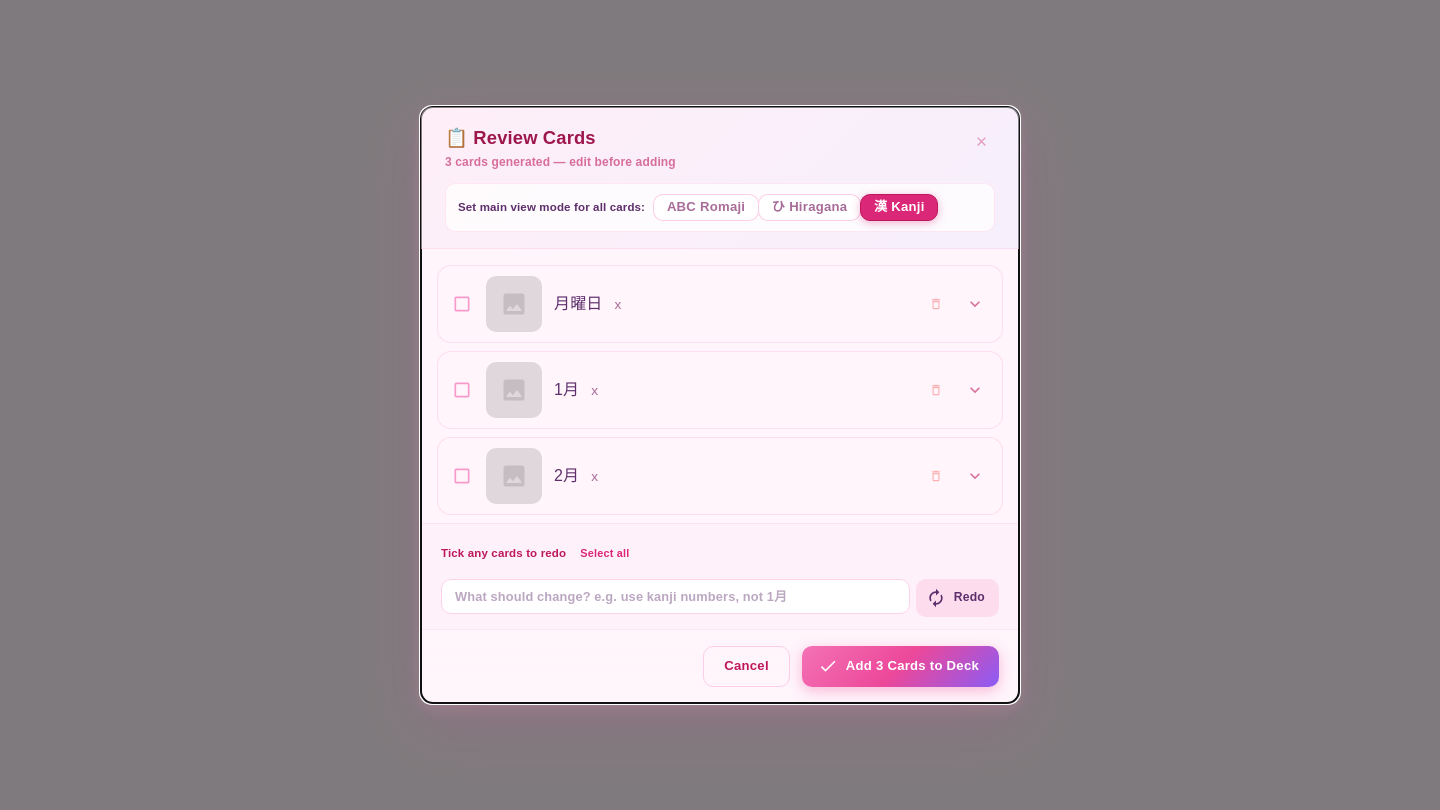
Scenario: ReviewCardsDialog regeneration › should surface a failure without dropping any cards
This screenshot has width=1440, height=810.
Click the checkbox named "Select 1月 to redo". click: (462, 390)
box: [452,380,472,400]
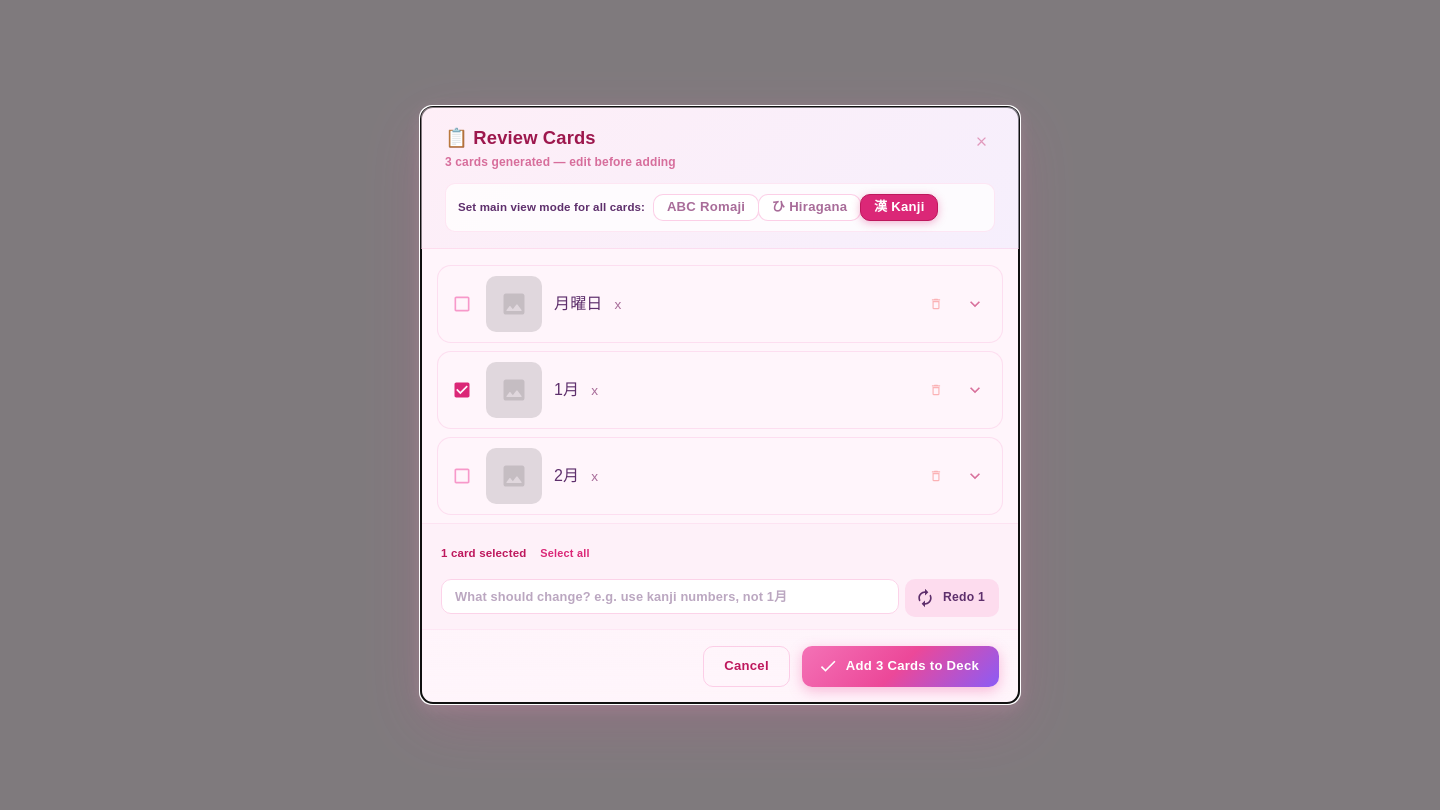
Type "kanji" into the field with placeholder "What should change? e.g. use kanji numbers, not 1月". click: (670, 596)
box: [441,579,899,614]
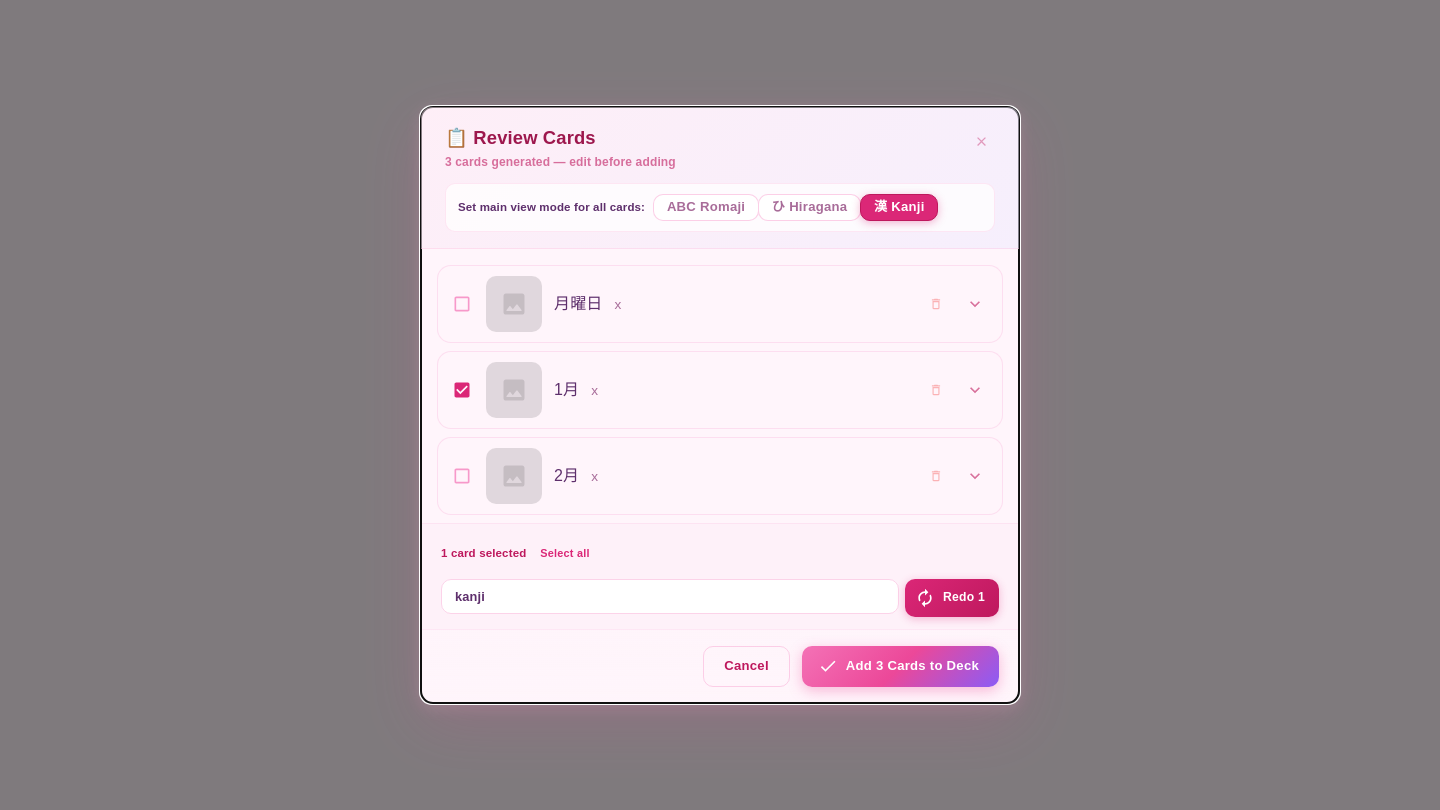
Click the button "Redo 1". click: (952, 598)
box: [905,579,999,617]
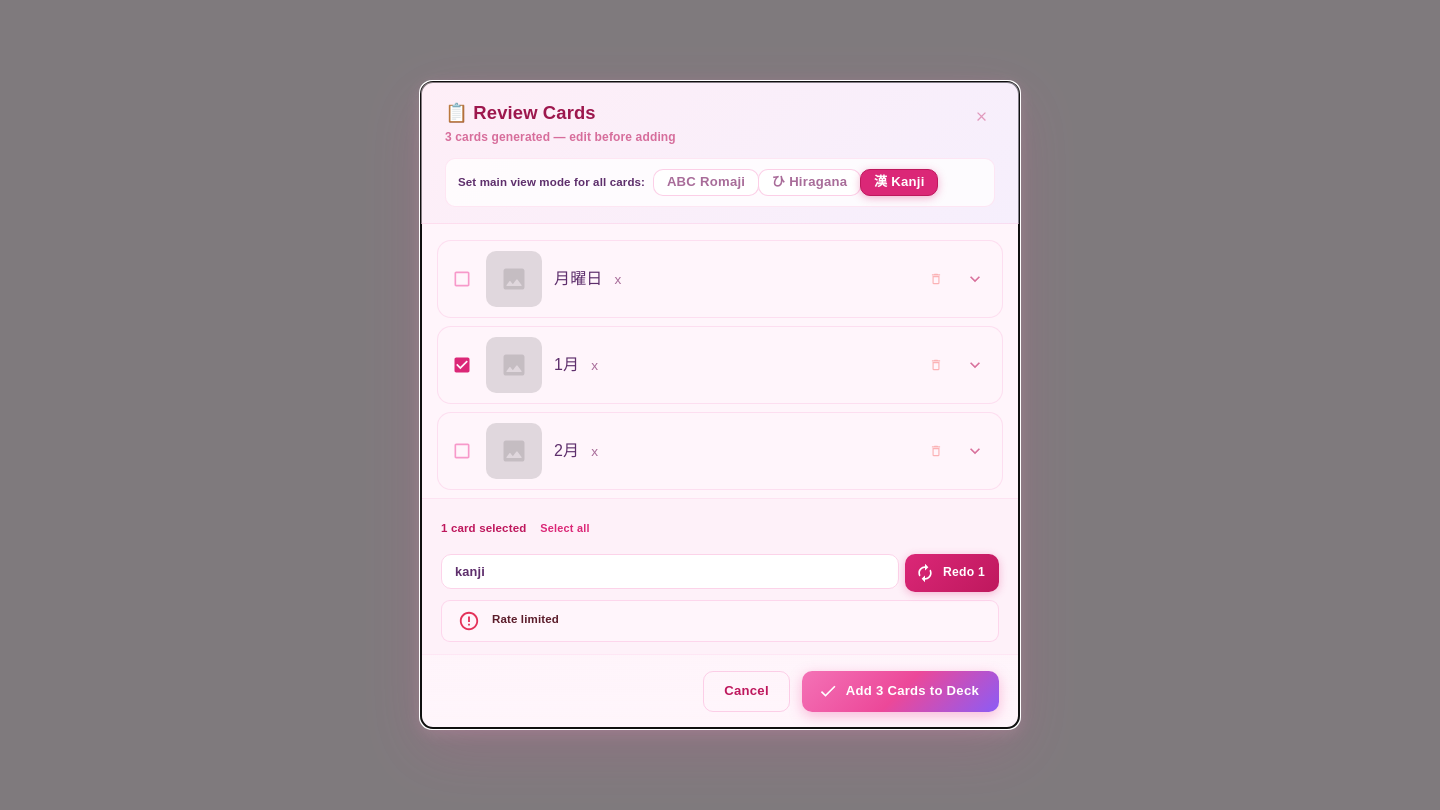
Expected: the heading "1月" is shown, [554,351,579,379]
Expected: the text "Rate limited" is shown, [492,613,559,625]
